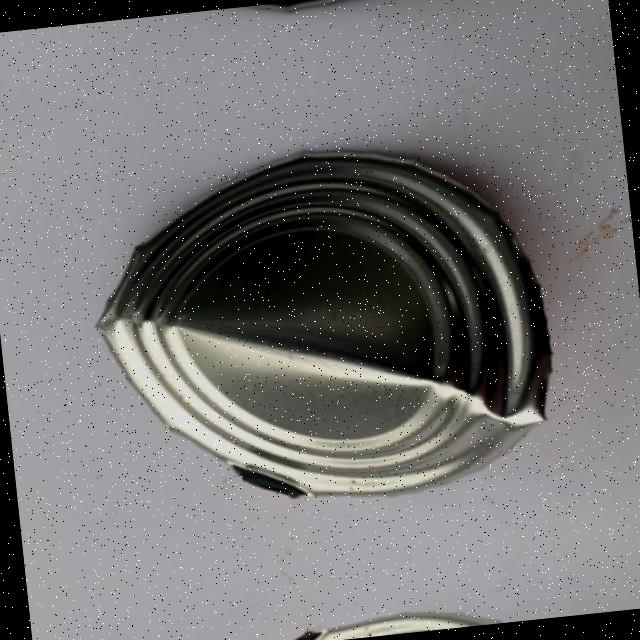Metal: (52, 120, 576, 564), (98, 555, 586, 640), (38, 0, 521, 43)
